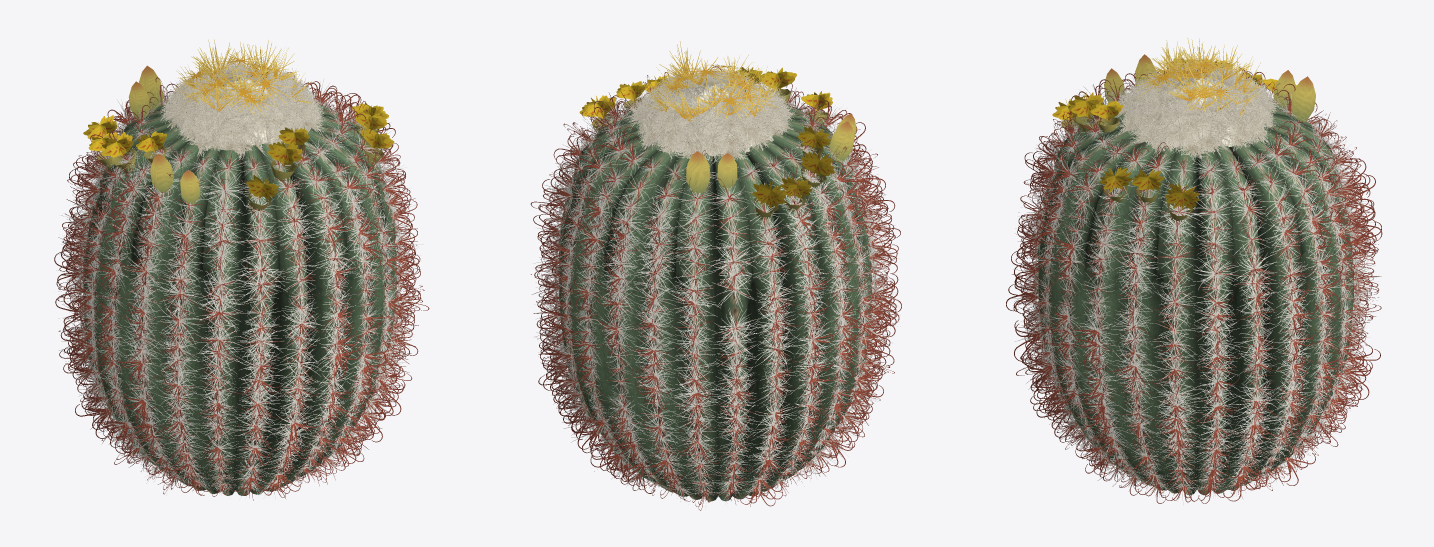
The model's file is barrel_cactus_v3.glb.
3 views of the same model, side by side, from view 1: azimuth 30°, elevation 25°; view 2: azimuth 150°, elevation 25°; view 3: azimuth 270°, elevation 25° (orthographic).
Parts seen in each view (by area): view 1: BarrelCactus; view 2: BarrelCactus; view 3: BarrelCactus.
Part boxes in pixels (bbox=[...]): BarrelCactus: bbox=[54, 39, 429, 500]; BarrelCactus: bbox=[530, 41, 901, 510]; BarrelCactus: bbox=[1006, 38, 1382, 504].
Bounding box in the file's own units: 0.8381 × 0.9062 × 0.8355.
6 materials, 6 textured.
